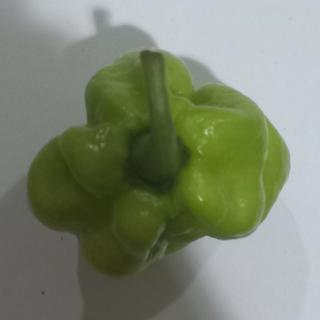Grade-B: (23, 44, 293, 278)
